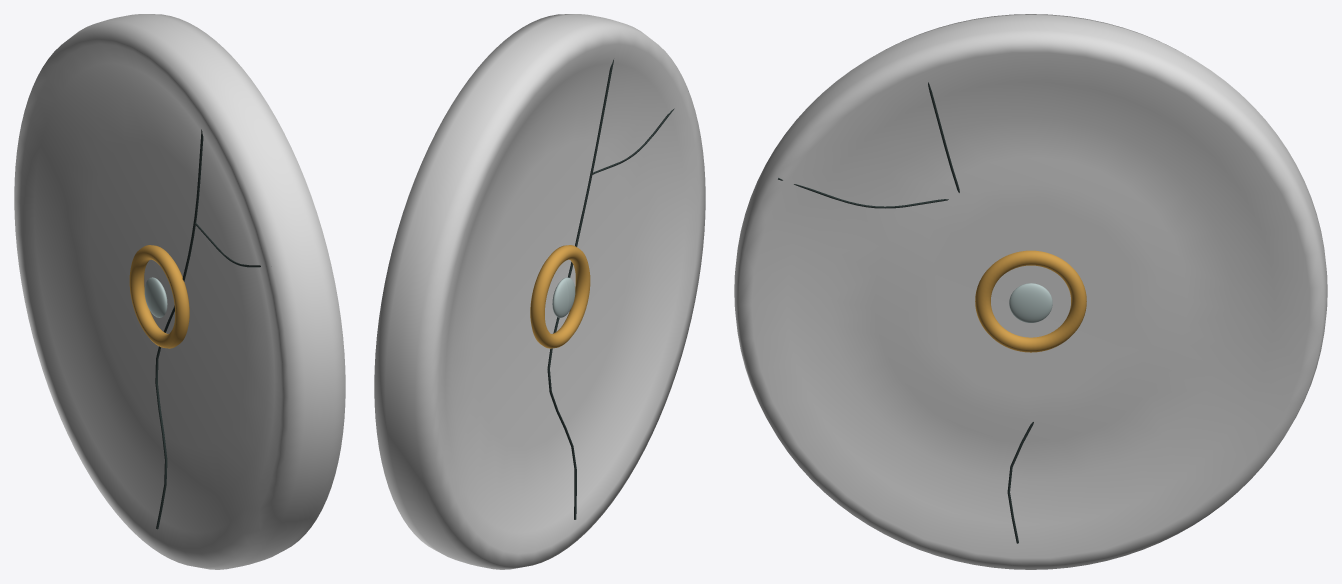
Rendered from plate.glb.
The picture shows the model from 3 angles, left to right: view 1: azimuth 30°, elevation 25°; view 2: azimuth 150°, elevation 25°; view 3: azimuth 270°, elevation 25°; orthographic projection. The views are drawn at different scales.
Visible parts, largest first — view 1: plate-shell, brass, dark, hub; view 2: plate-shell, brass, dark, hub; view 3: plate-shell, brass, hub, dark.
Boxes of the visible parts, bbox=[...] form: plate-shell: bbox=[14, 14, 345, 569]; brass: bbox=[129, 245, 189, 348]; dark: bbox=[155, 129, 260, 529]; hub: bbox=[144, 277, 167, 317]; plate-shell: bbox=[374, 14, 705, 569]; brass: bbox=[530, 245, 590, 348]; dark: bbox=[547, 59, 674, 519]; hub: bbox=[552, 277, 575, 317]; plate-shell: bbox=[734, 14, 1327, 569]; brass: bbox=[975, 250, 1086, 352]; hub: bbox=[1009, 283, 1052, 322]; dark: bbox=[778, 82, 1033, 543].
Bounding box in the file's own units: 0.083 × 0.68 × 0.68.
